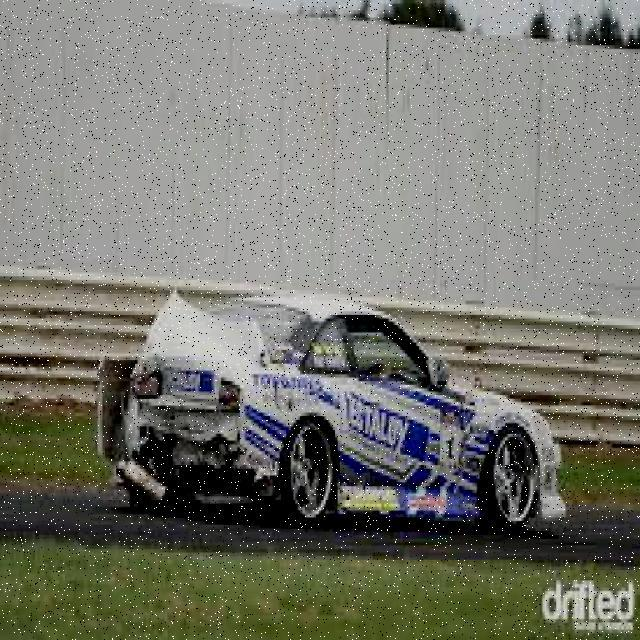car damage: (100, 285, 275, 500)
